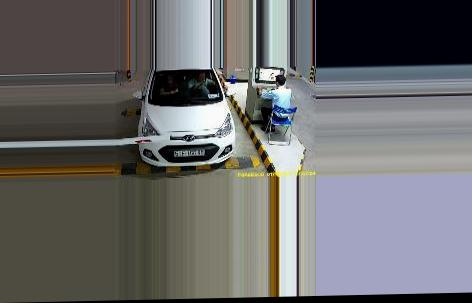License_Plate: (173, 148, 205, 159)
